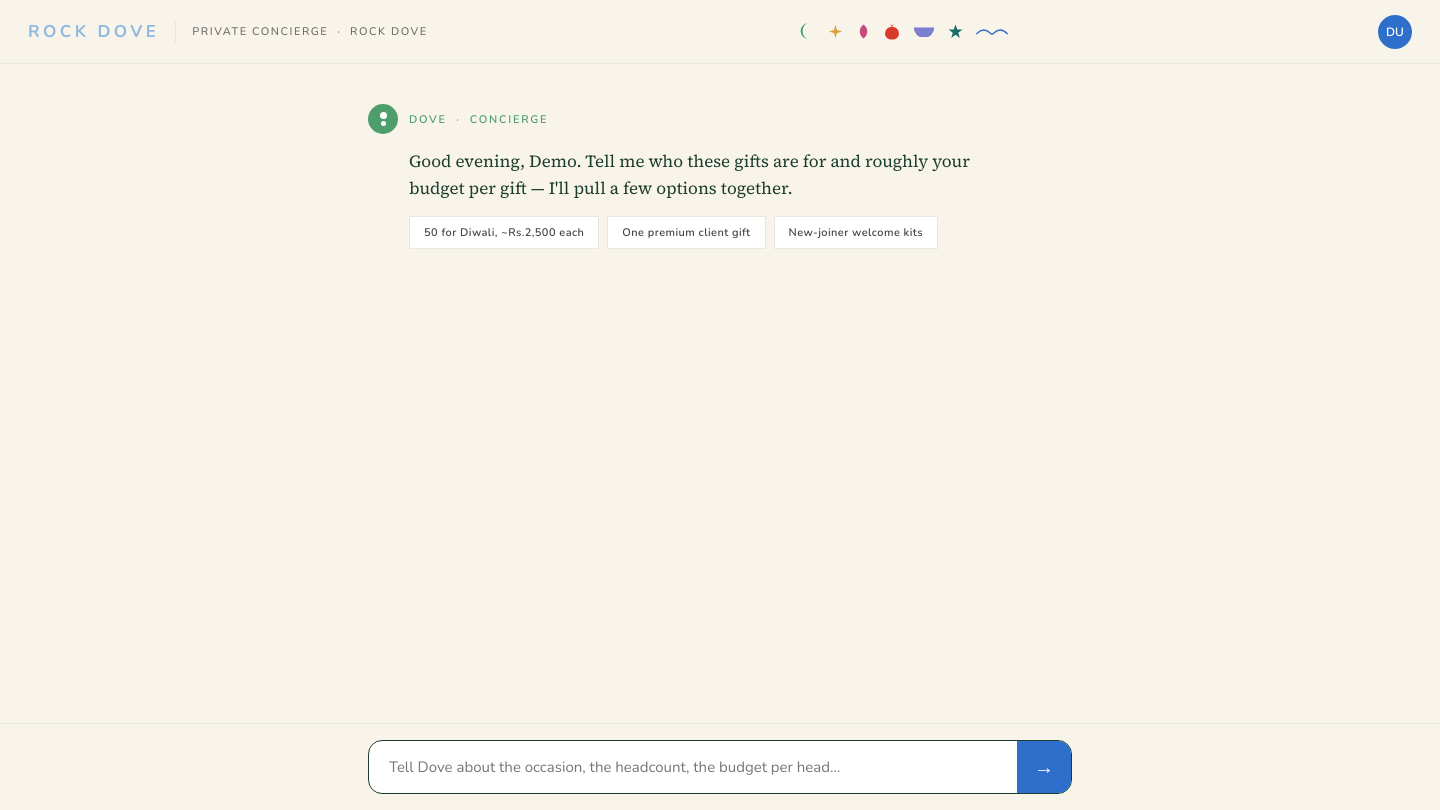
core chat journey › sanitizeDoveMsg: backend JSON leak never renders
The image size is (1440, 810).
Expected: the text "Good" is shown, x1=409 y1=149 x2=974 y2=200
Type "hello" into the field named "Message Dove".
click(693, 767); type("hello")  # box x1=369 y1=741 x2=1017 y2=793
Then press Enter
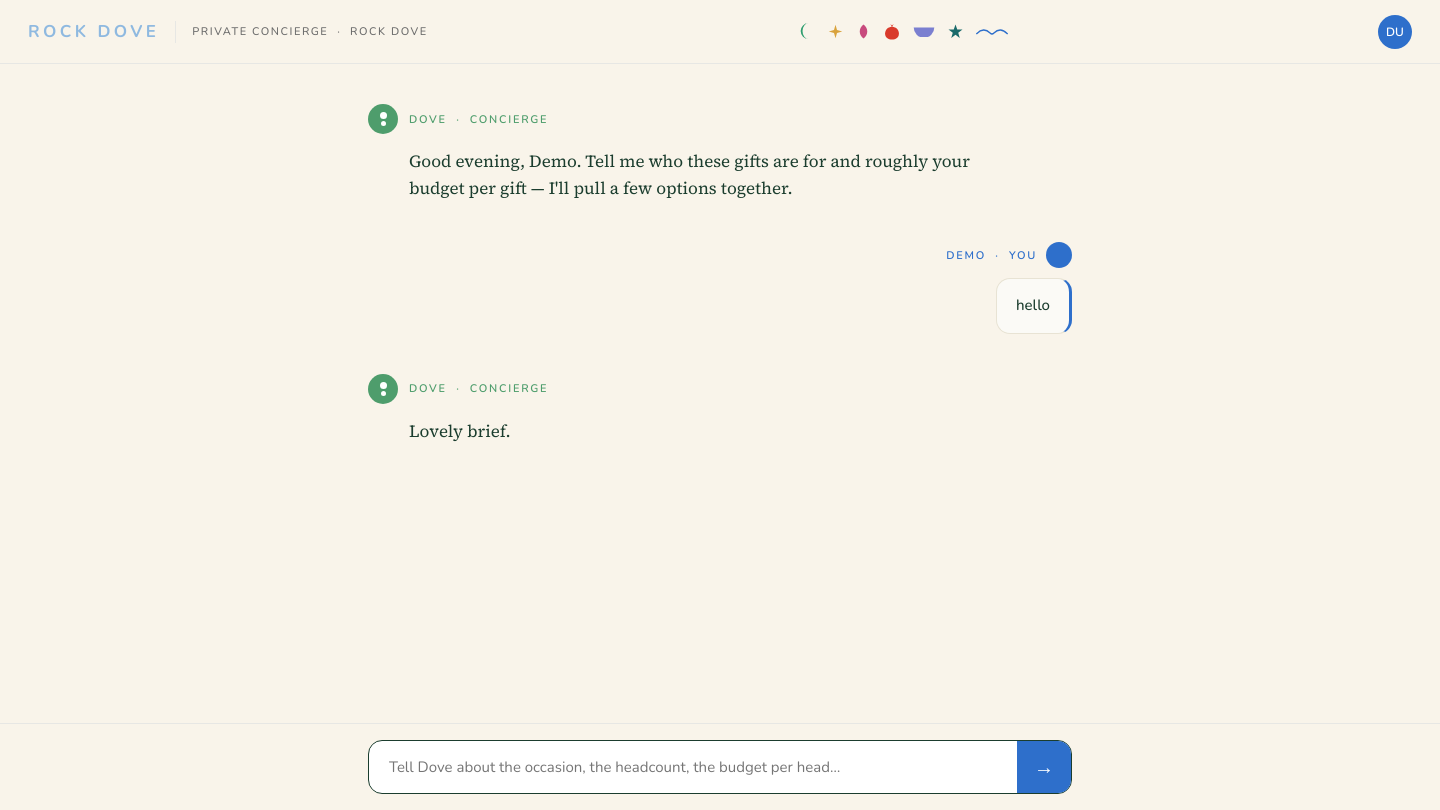
Expected: the text "Lovely brief." is shown, x1=409 y1=419 x2=511 y2=443
